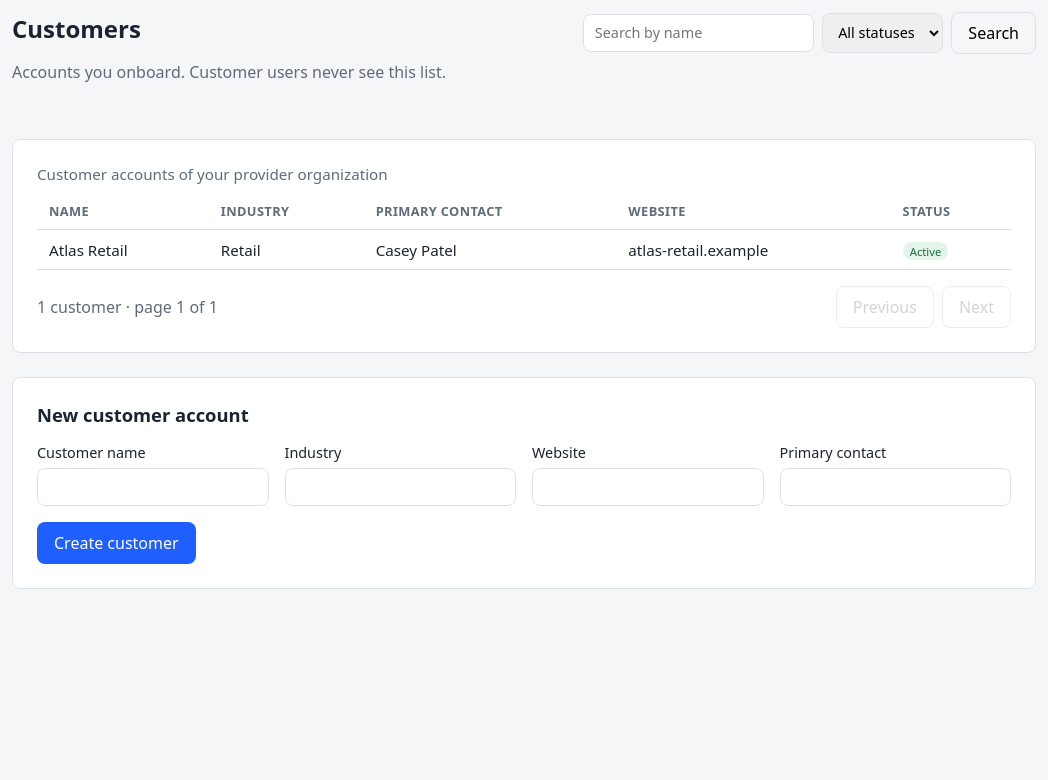
it: CustomersPage › creates a customer and reloads the list
Expected: the text "Atlas Retail" is shown, [37, 230, 209, 270]
In the field labelled "Customer name": (153, 487) [37, 468, 268, 506], type "Polaris Media"
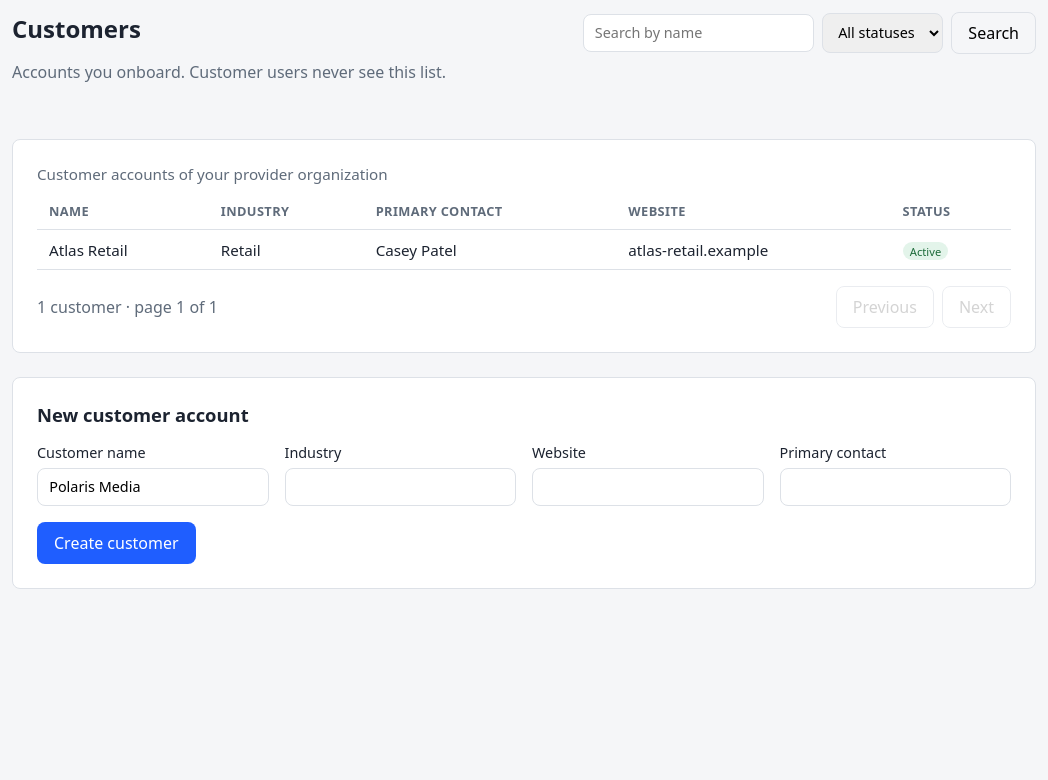
Click the button "Create customer": click(116, 543) [37, 522, 196, 564]
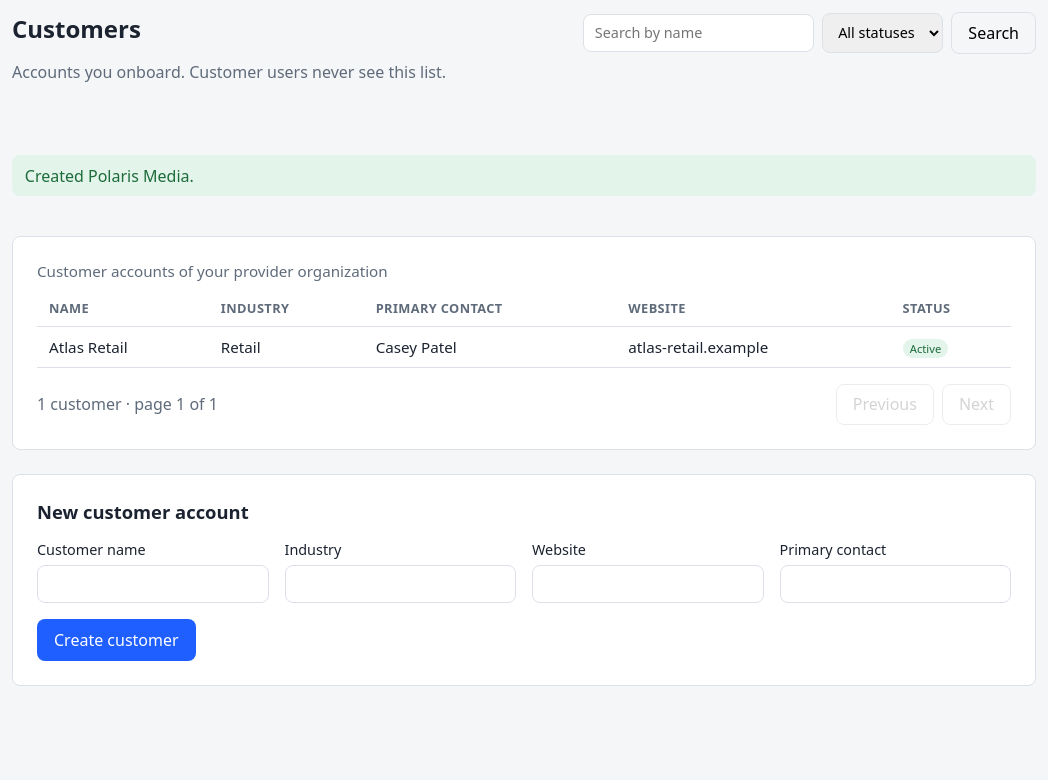
Now the text "Created Polaris Media." is shown, box [12, 155, 1036, 196]
